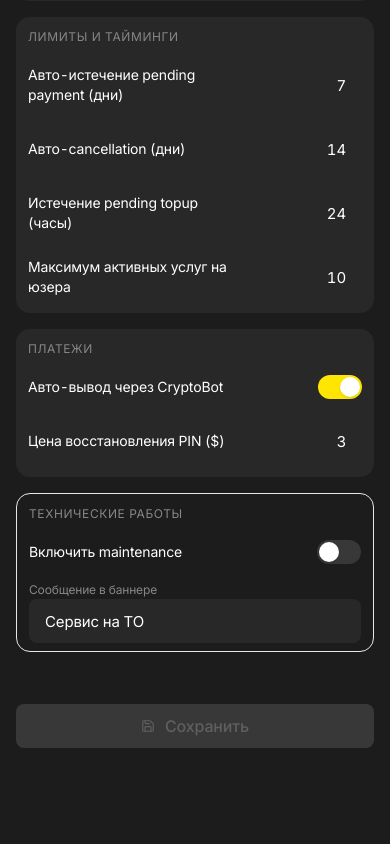
Test case: <AdminSettingsPage /> › shows warning banner when maintenance is toggled on (unsaved)
The width and height of the screenshot is (390, 844).
(page scrolled)
Click the switch next to "Включить maintenance" at (339,552), box 317,540 -> 361,564
(page scrolled)
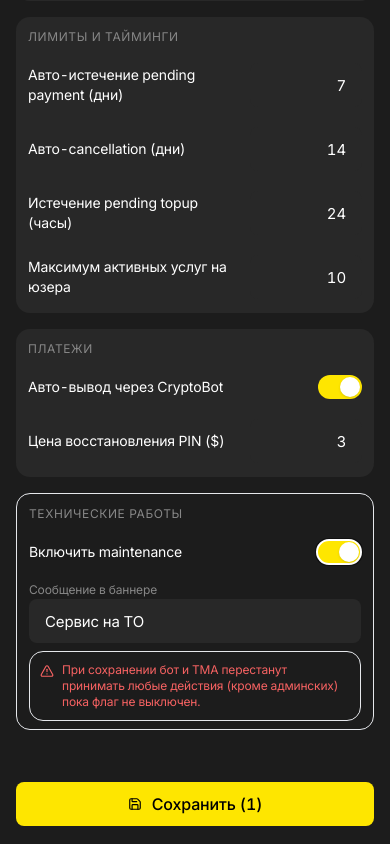
Result: the text "бот и TMA перестанут принимать любые действия" is shown at 62,662 -> 338,709
